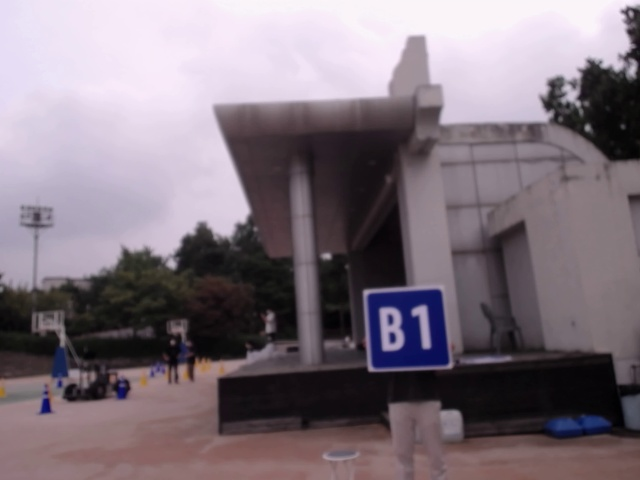delivery_b1: (363, 285, 453, 371)
